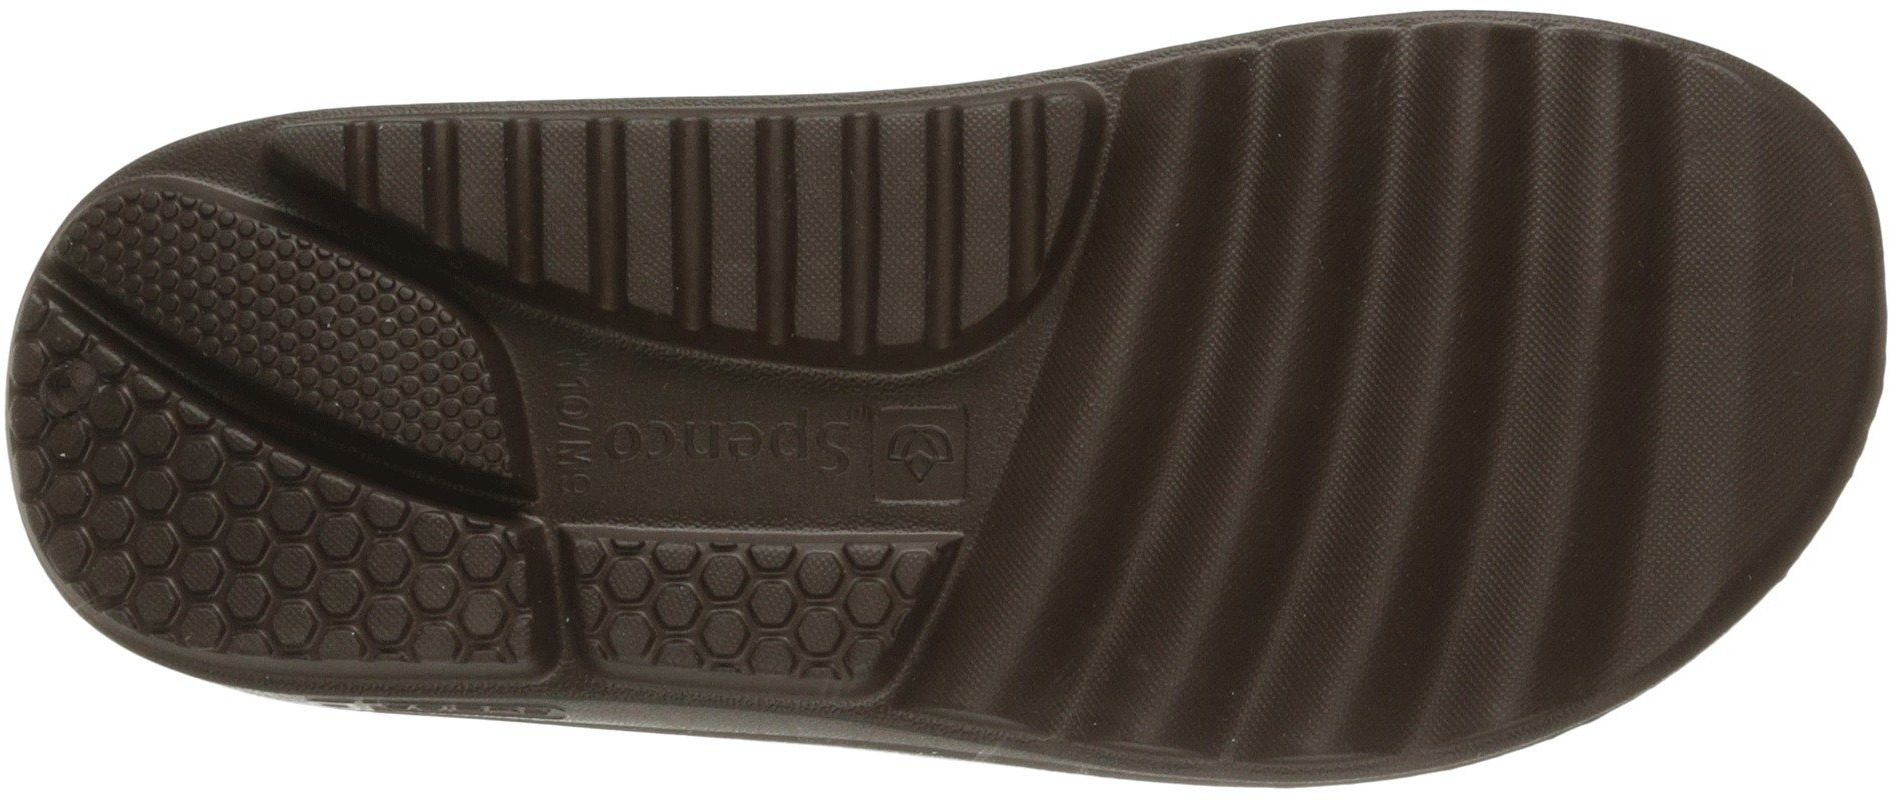circle: (216, 244, 355, 381), (357, 310, 469, 423), (99, 201, 210, 302)
polygon: (69, 409, 270, 616), (279, 502, 439, 663), (625, 534, 760, 678)
quad: (768, 110, 1005, 337), (541, 119, 756, 305)
text: (556, 388, 657, 495), (742, 399, 844, 490), (665, 407, 733, 476)
